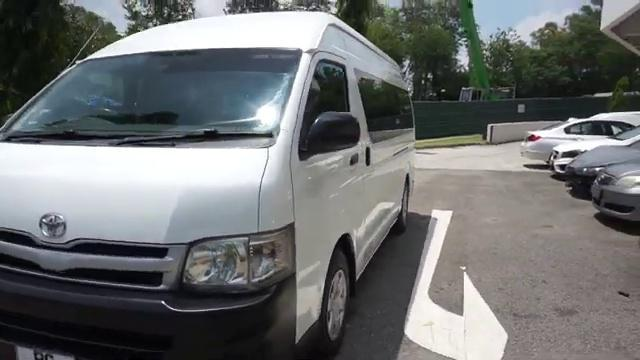Van: (2, 13, 418, 352)
